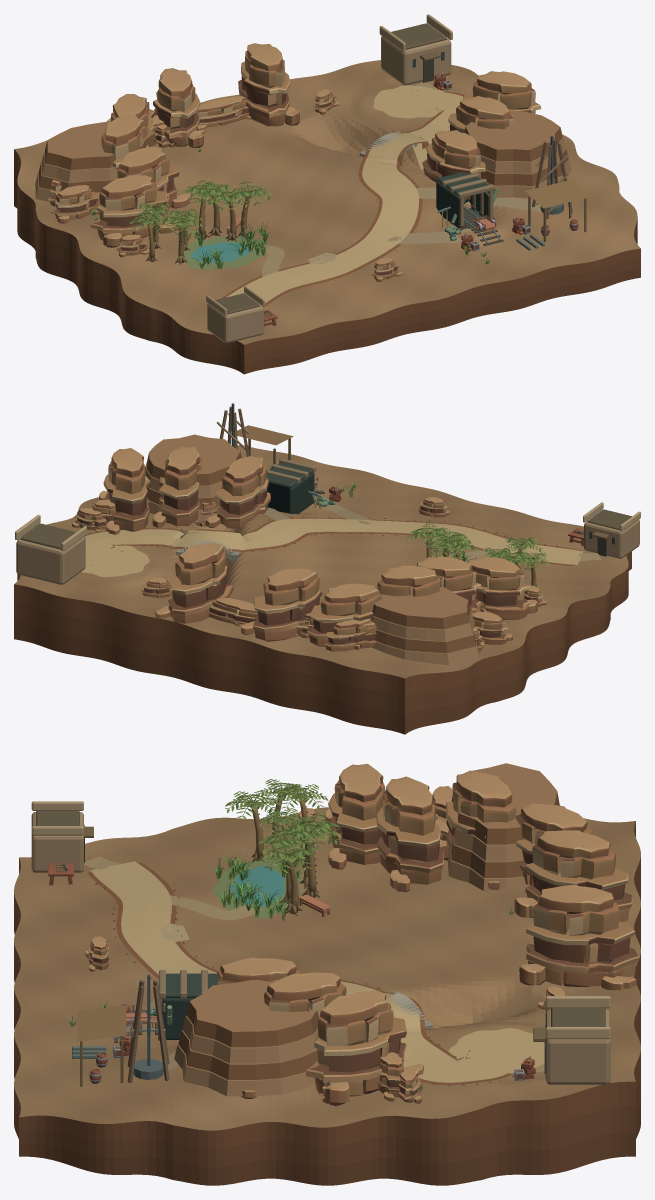
The model's file is sahrun.glb.
The picture shows the model from 3 angles, top to bottom: view 1: azimuth 30°, elevation 25°; view 2: azimuth 150°, elevation 25°; view 3: azimuth 270°, elevation 25°; orthographic projection. The views are drawn at different scales.
Parts seen in each view (by area): view 1: Static terrain and architecture • material batches; view 2: Static terrain and architecture • material batches; view 3: Static terrain and architecture • material batches.
Boxes of the visible parts, <box> form: Static terrain and architecture • material batches: <box>14,14,640,374</box>; Static terrain and architecture • material batches: <box>14,403,640,734</box>; Static terrain and architecture • material batches: <box>14,763,640,1185</box>.
Size of the model in its own units: 24 by 5.46 by 20.
